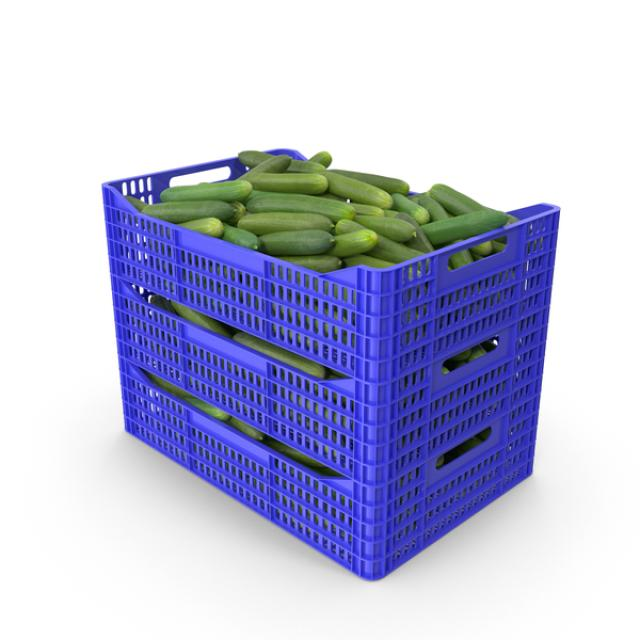basket: (52, 140, 572, 601)
